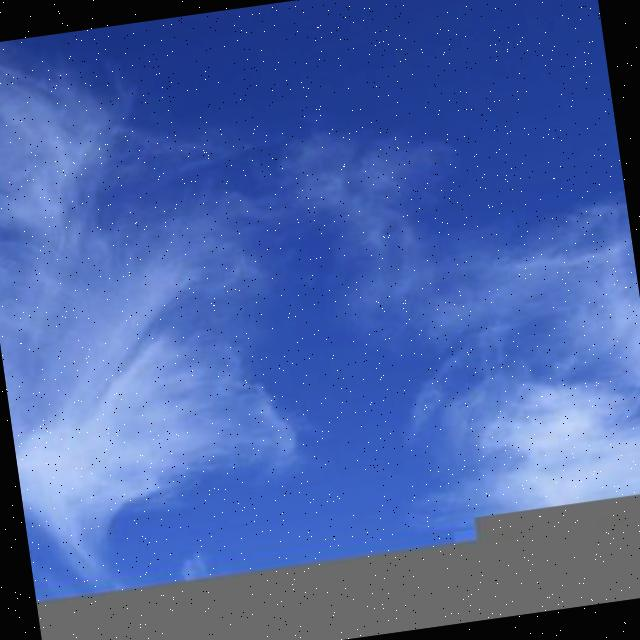Cc: (1, 56, 338, 579)
